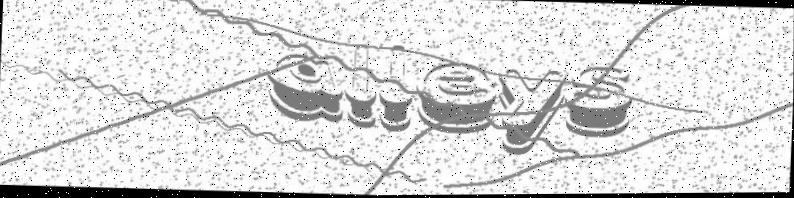a: (265, 51, 346, 125)
e: (414, 60, 498, 136)
l: (377, 44, 416, 133), (343, 44, 381, 130)
s: (563, 64, 635, 140)
y: (495, 67, 565, 158)
